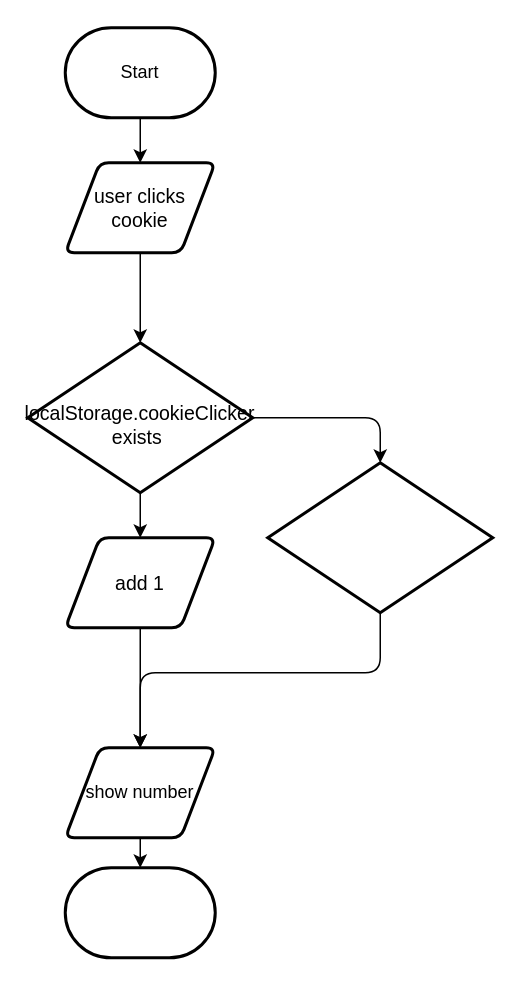
This 521x984 diagram has some shape labels left out. The box of each missing label's shape, as (x1, y1, x2, y2) in pixels:
localStorage.cookieClicker = 1: (266, 460, 494, 614)
Stop: (63, 866, 216, 958)
